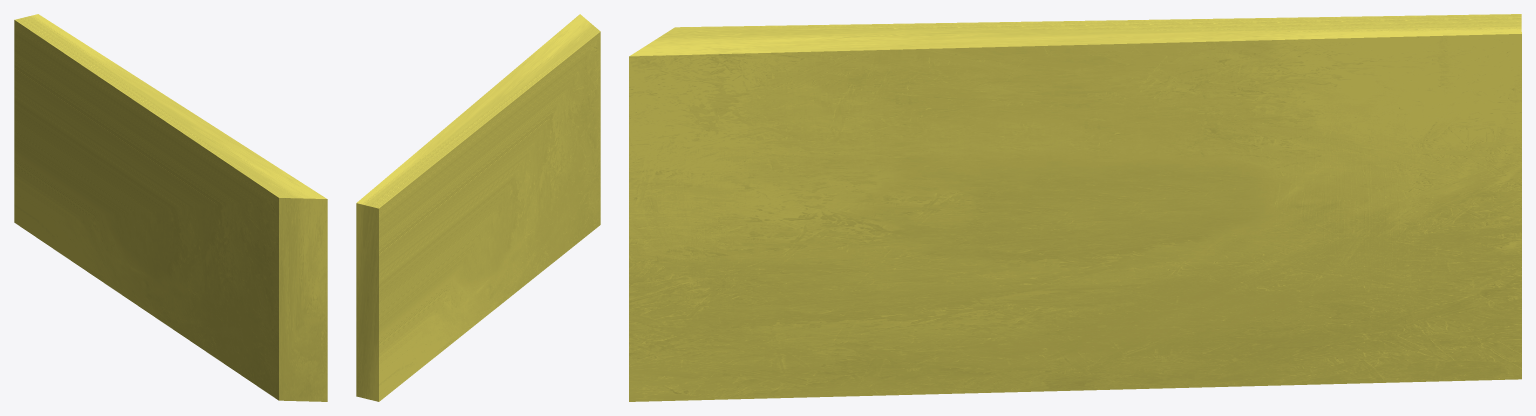
The model's file is jaune2.FBX.
3 views of the same model, side by side, from view 1: azimuth 30°, elevation 25°; view 2: azimuth 150°, elevation 25°; view 3: azimuth 270°, elevation 25° (orthographic). The views are drawn at different scales.
Visible parts, largest first — view 1: Ligne037; view 2: Ligne037; view 3: Ligne037.
Boxes of the visible parts, x1,y1,x2,y2 form: Ligne037: [14, 14, 327, 401]; Ligne037: [356, 14, 600, 401]; Ligne037: [629, 14, 1521, 401].
Bounding box in the file's own units: 2.04 × 7.77 × 18.18.
Materials: 1 (1 with a texture image).
